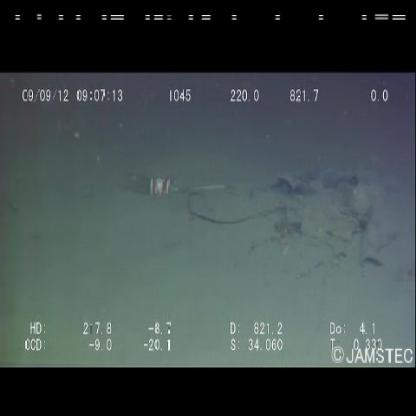Rác: (121, 160, 188, 202)
